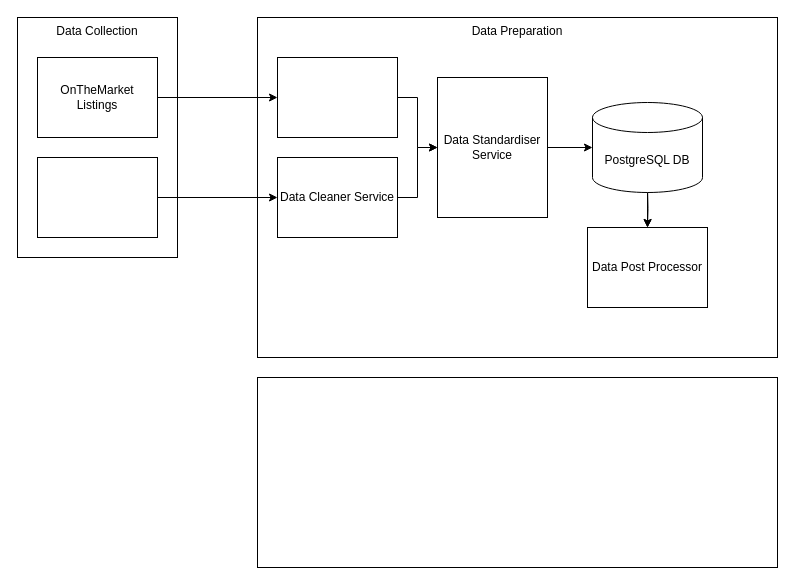
This 795x585 diagram has some shape labels left out. The shapes that lost their labels are listed below. From the top down, each one's centre as x and y in pixels, then its label:
At [337,97]: "Data Collector Service".
At [97,197]: "HM Land Registry Data".
At [517,472]: "Model Development".
